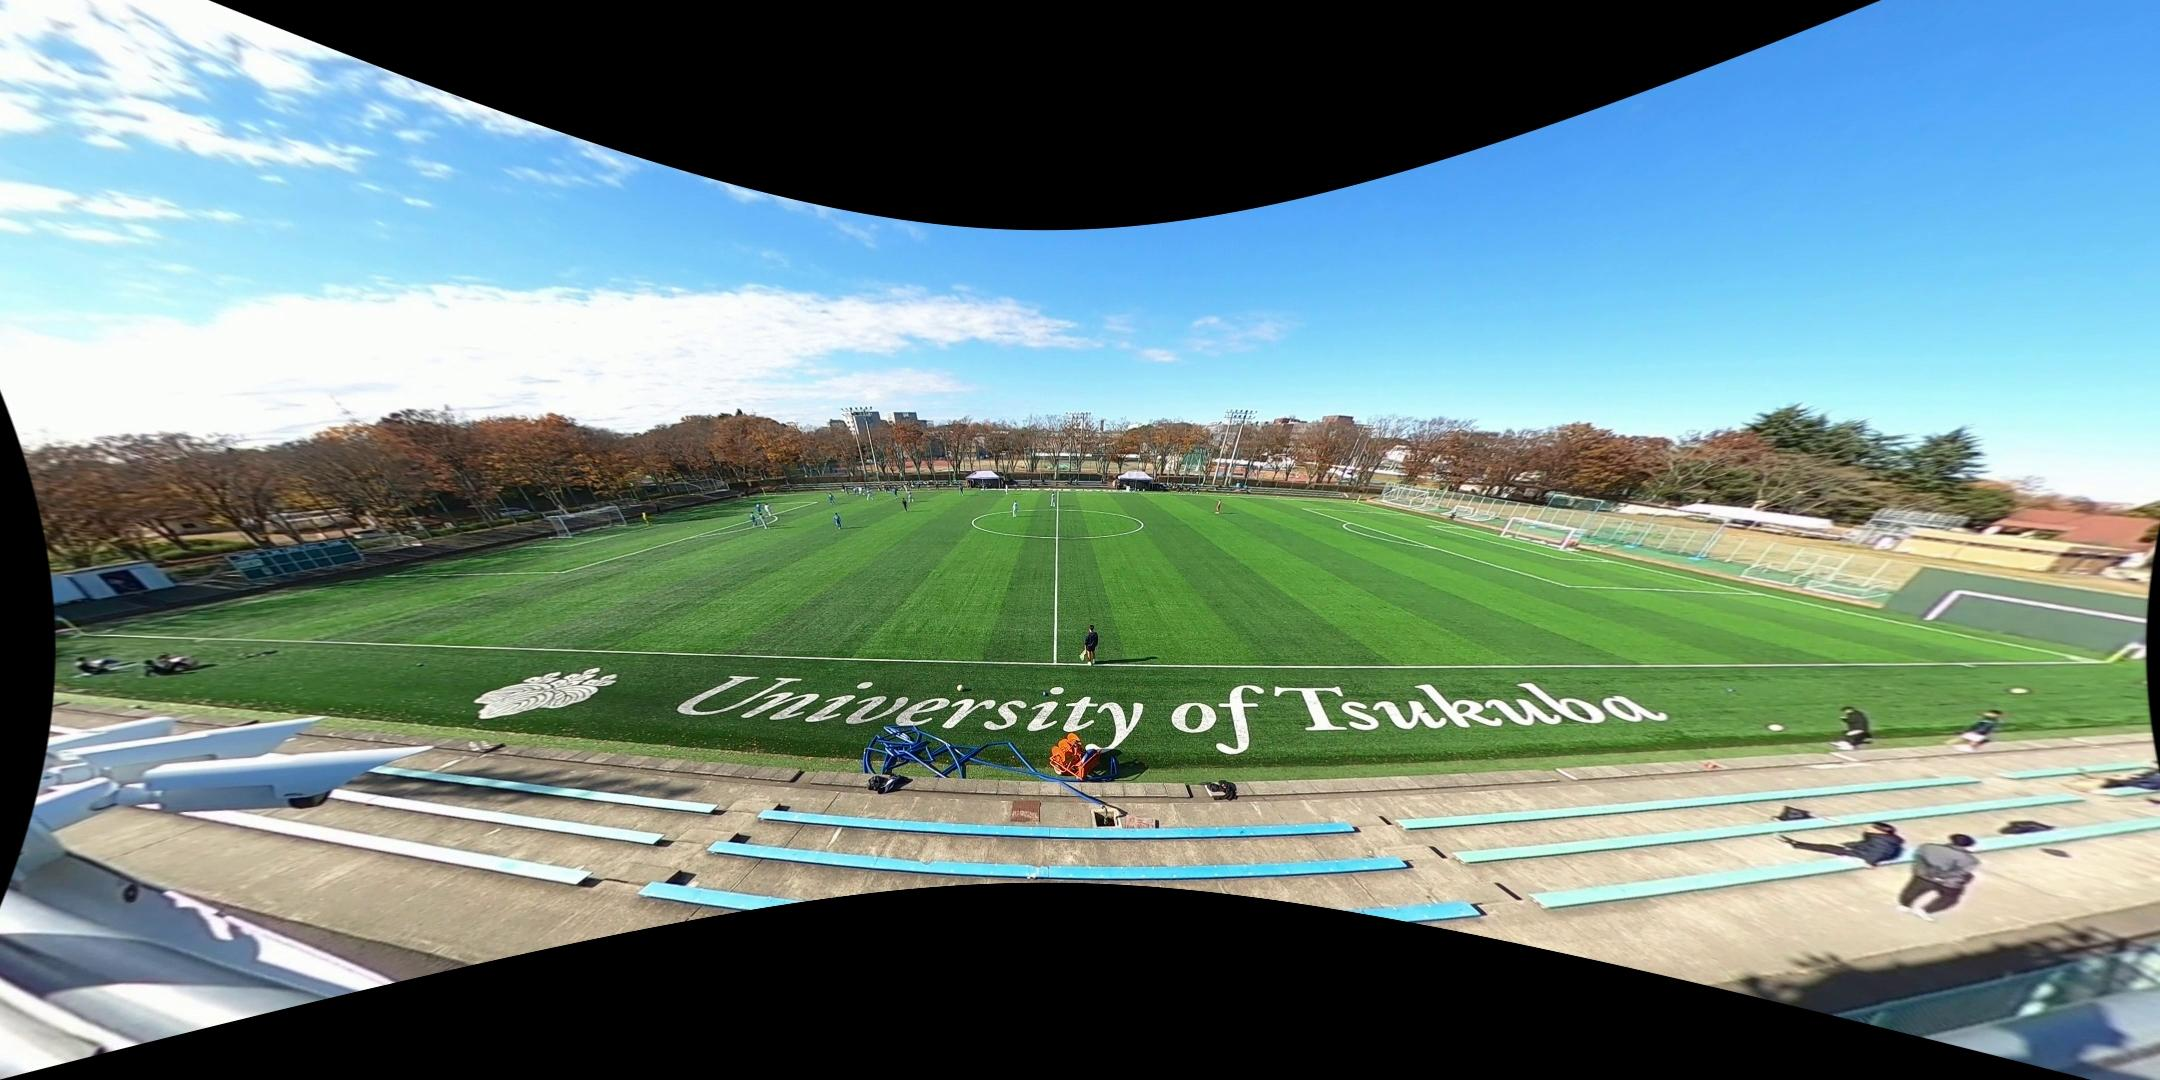person: (1081, 625, 1098, 664), (640, 512, 652, 527), (833, 512, 843, 529), (759, 513, 769, 529), (763, 503, 772, 518), (1011, 500, 1018, 518), (756, 503, 764, 518), (749, 511, 756, 527), (1049, 492, 1056, 507), (1215, 499, 1222, 514), (828, 493, 836, 506), (901, 498, 908, 512), (892, 486, 898, 500), (907, 491, 914, 503), (865, 490, 874, 499), (958, 484, 963, 496), (857, 487, 863, 496), (1004, 485, 1009, 495), (852, 488, 858, 496), (903, 485, 909, 492)
sports ball: (862, 493, 864, 496)
